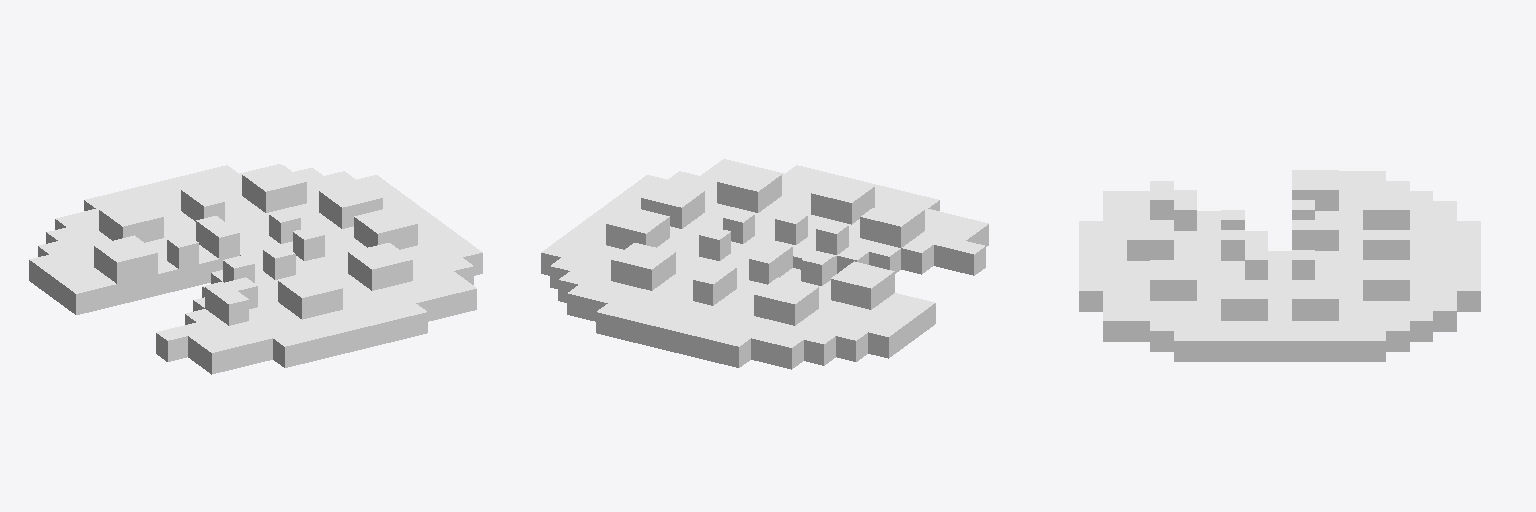
Rendered from pizza1b.obj.
3 views of the same model, side by side, from view 1: azimuth 30°, elevation 25°; view 2: azimuth 150°, elevation 25°; view 3: azimuth 270°, elevation 25° (orthographic).
Bounding box in the file's own units: 0.85 × 0.1 × 0.85.